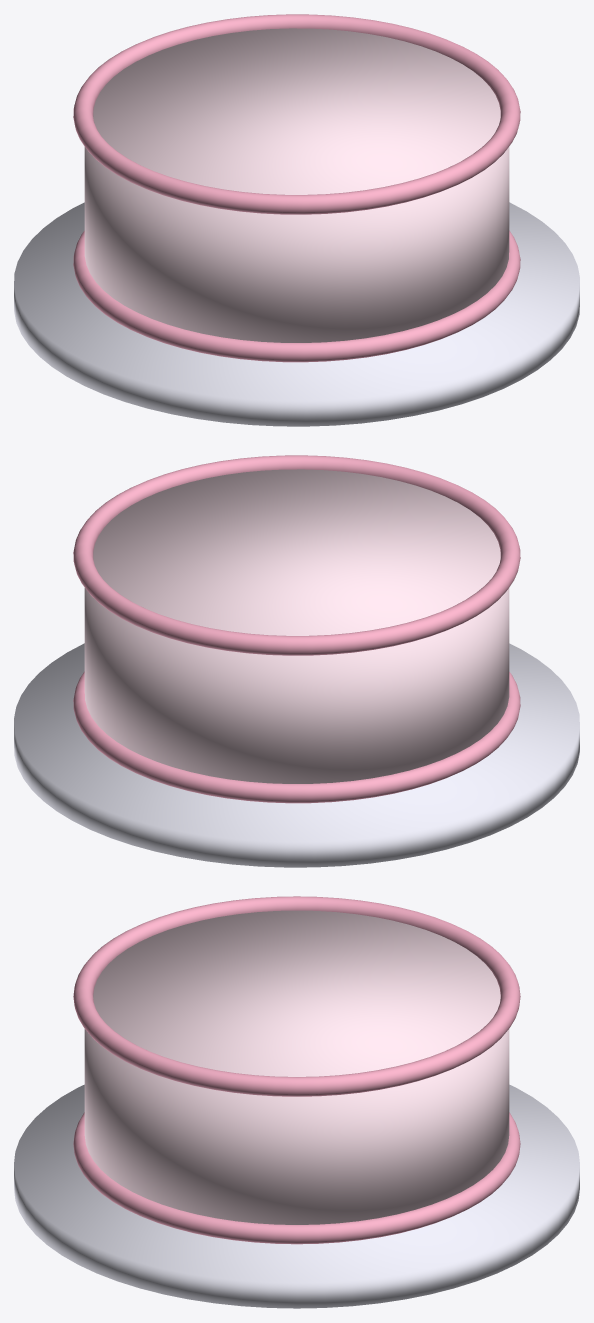
Rendered from round_strawberry.glb.
3 views of the same model, one above another, from view 1: azimuth 30°, elevation 25°; view 2: azimuth 150°, elevation 25°; view 3: azimuth 270°, elevation 25° (orthographic).
Parts seen in each view (by area): view 1: CakeBase, IcingStand, IcingRing, IcingRing.001; view 2: CakeBase, IcingStand, IcingRing, IcingRing.001; view 3: CakeBase, IcingStand, IcingRing, IcingRing.001.
Boxes of the visible parts, x1,y1,x2,y2 form: CakeBase: (84,28,509,342); IcingStand: (14,202,579,426); IcingRing: (73,14,520,214); IcingRing.001: (73,230,520,362); CakeBase: (84,469,509,783); IcingStand: (14,643,579,867); IcingRing: (73,455,520,655); IcingRing.001: (73,671,520,803); CakeBase: (84,910,509,1224); IcingStand: (14,1084,579,1308); IcingRing: (73,896,520,1096); IcingRing.001: (73,1112,520,1244).
Size of the model in its own units: 4 by 1.57 by 4.
